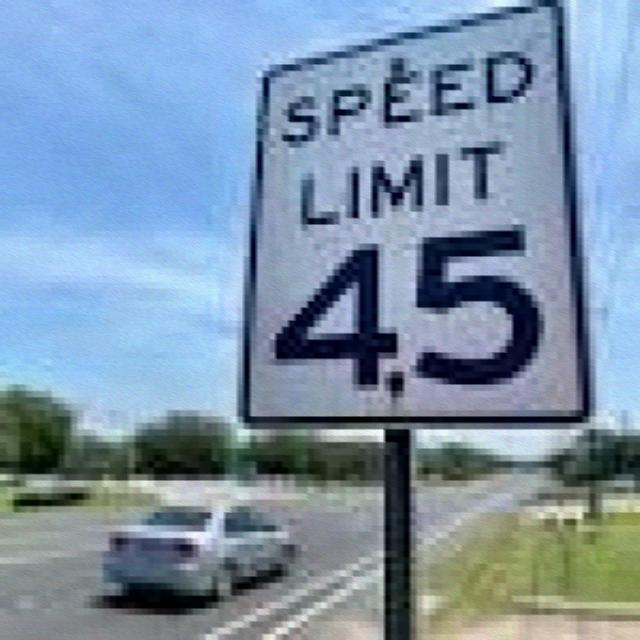speedLimit45: (242, 13, 596, 429)
